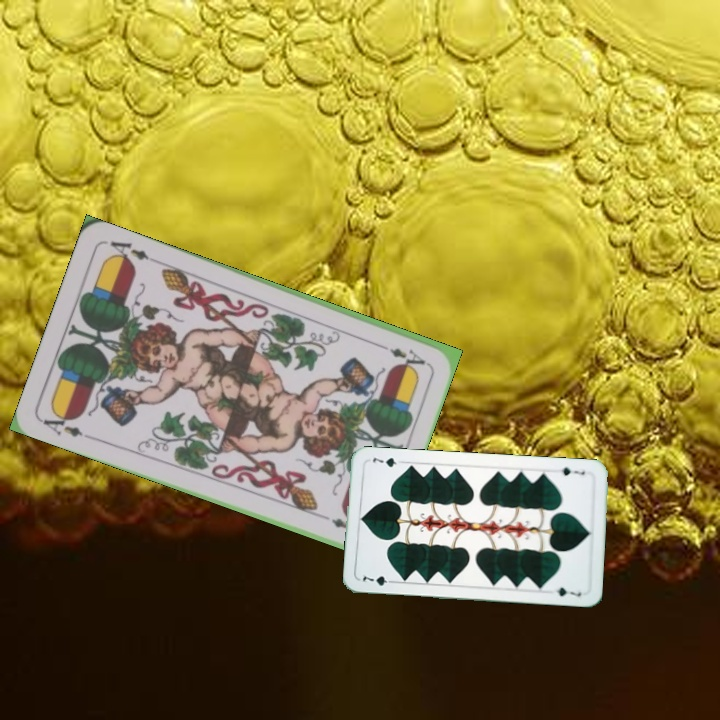EA: (39, 407, 95, 443), (385, 343, 430, 368)
G7: (359, 570, 398, 588), (557, 463, 588, 478)
